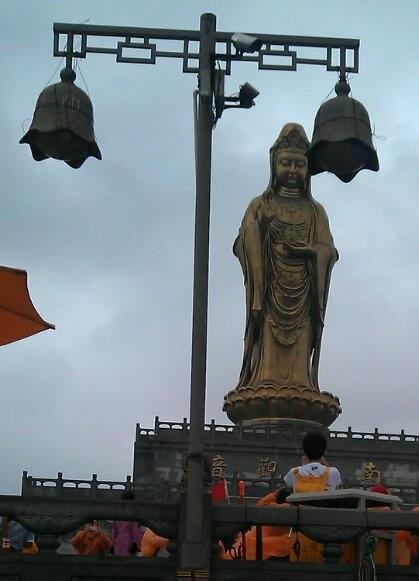Putuo_Mountain_Avalokitesvara: (226, 120, 344, 425)
